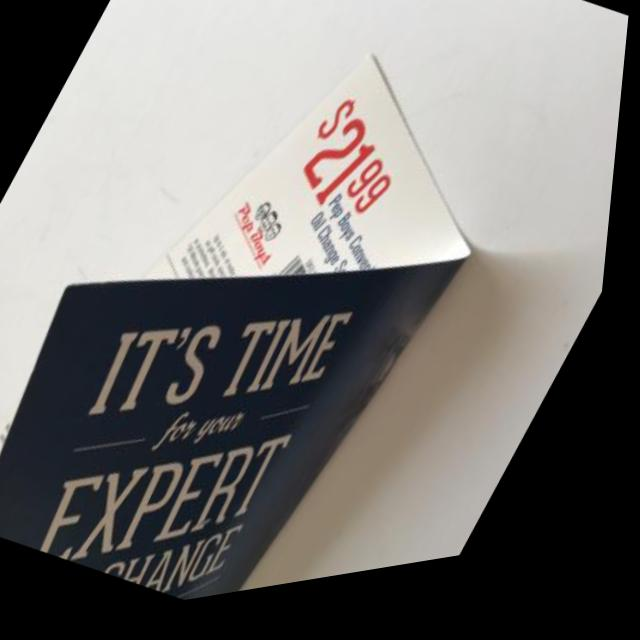paper: (0, 0, 594, 640)
